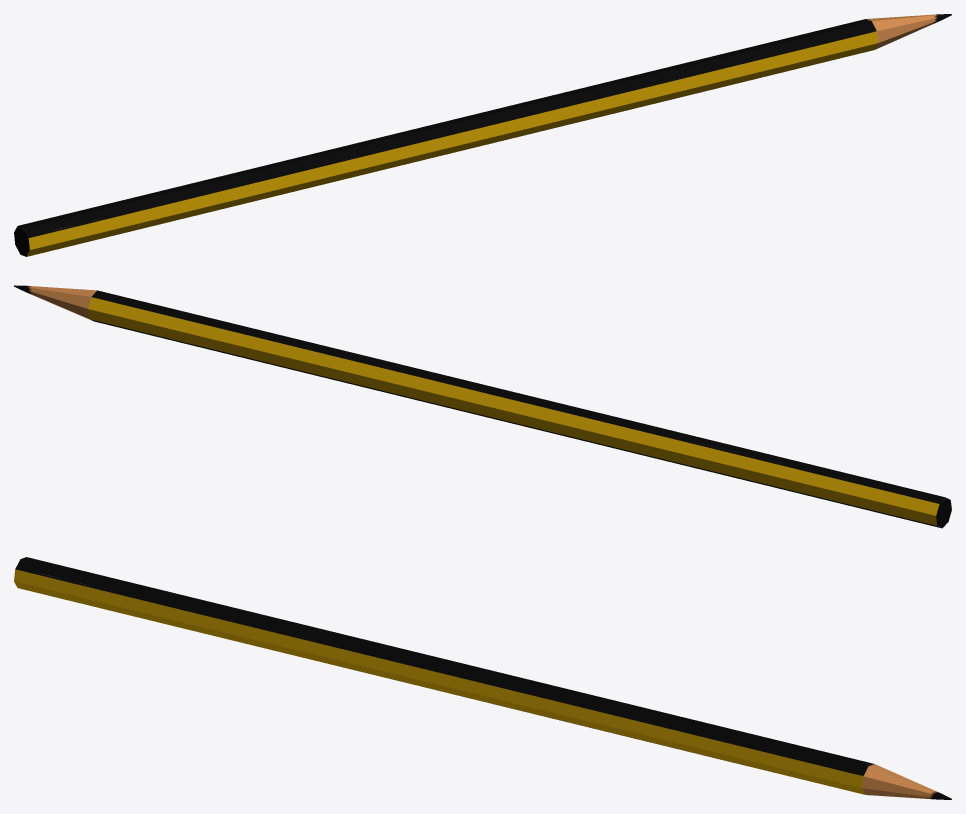
Rendered from Pencil.glb.
3 views of the same model, one above another, from view 1: azimuth 30°, elevation 25°; view 2: azimuth 150°, elevation 25°; view 3: azimuth 330°, elevation 25° (orthographic).
Parts seen in each view (by area): view 1: Cylinder.001; view 2: Cylinder.001; view 3: Cylinder.001.
Part boxes in pixels (x1=…): Cylinder.001: x1=14, y1=14, x2=951, y2=256; Cylinder.001: x1=14, y1=285, x2=951, y2=528; Cylinder.001: x1=14, y1=557, x2=951, y2=799.
Size of the model in its own units: 6.62 by 0.1962 by 0.1962.
1 material, 1 textured.
